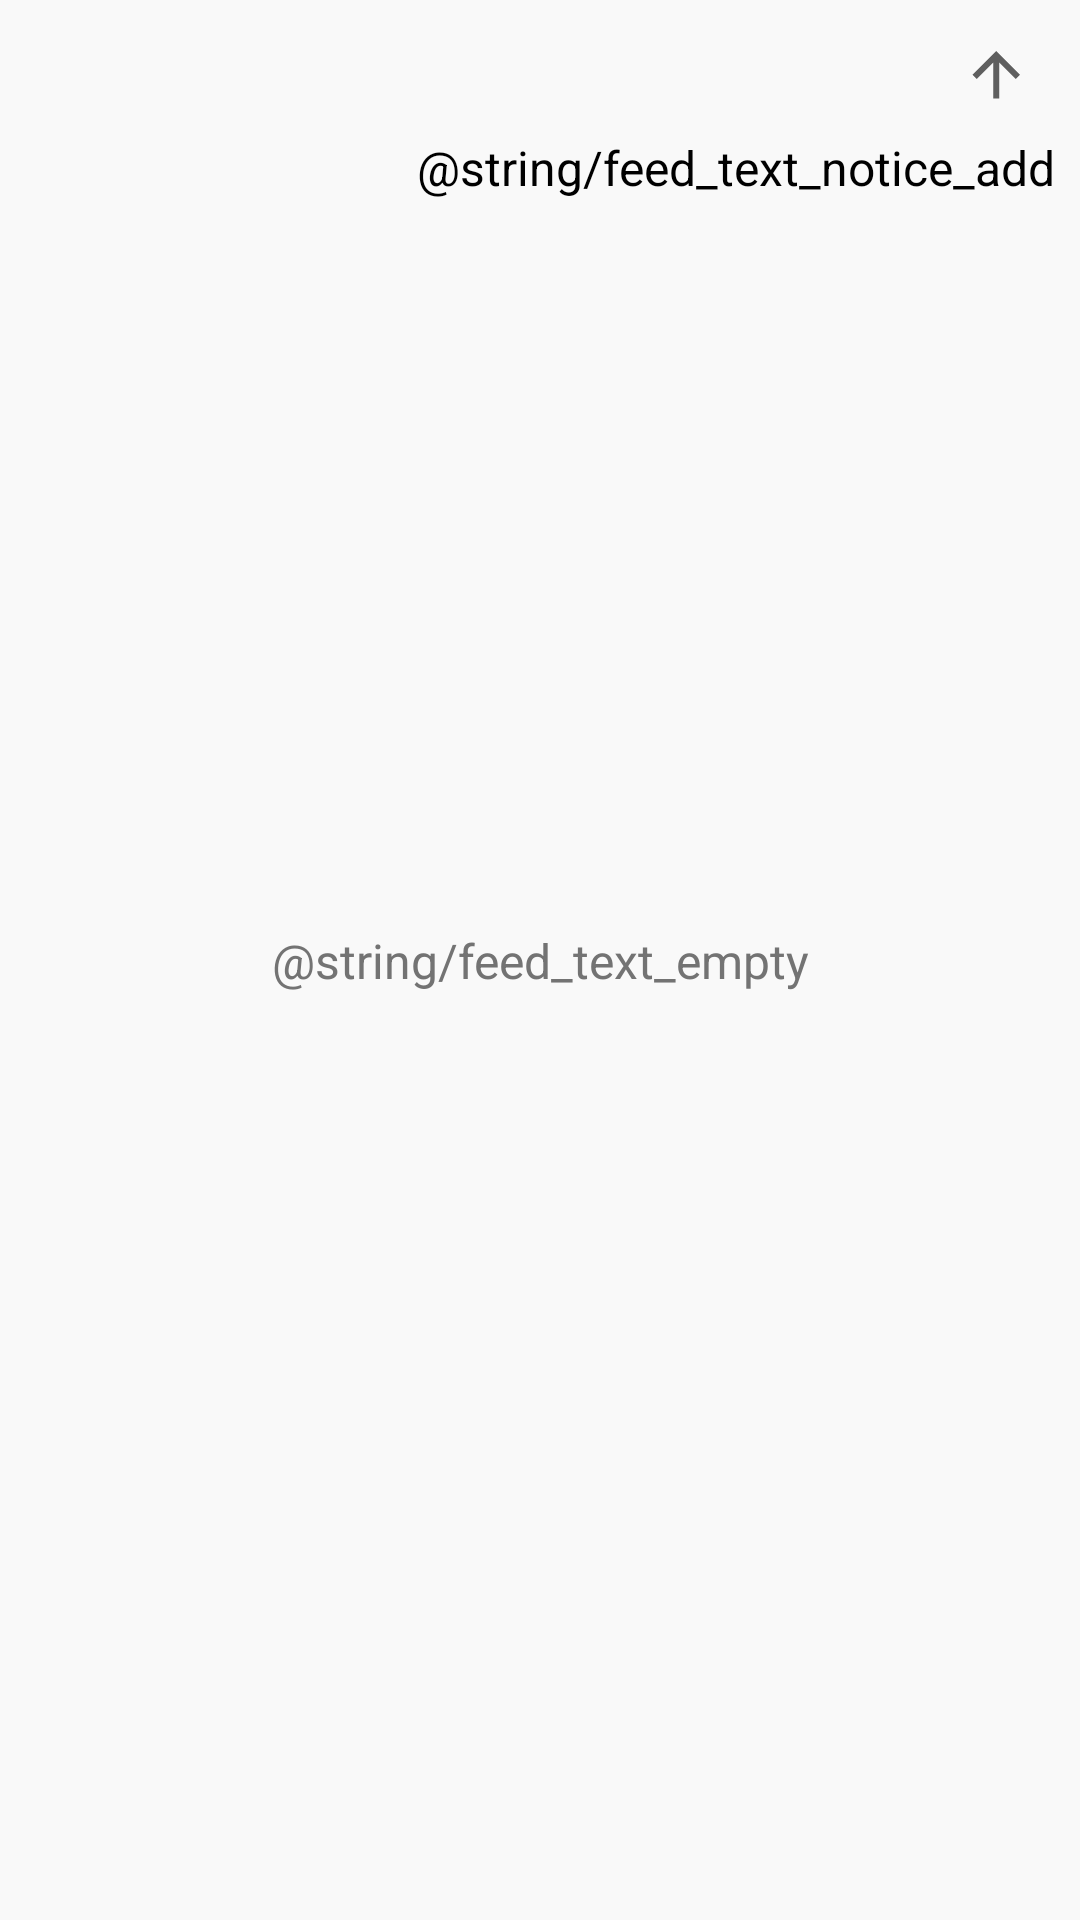

Named icons in this screenshot (1080 x 1920) and their centers, (x,y):
arrow top: (996,75)
